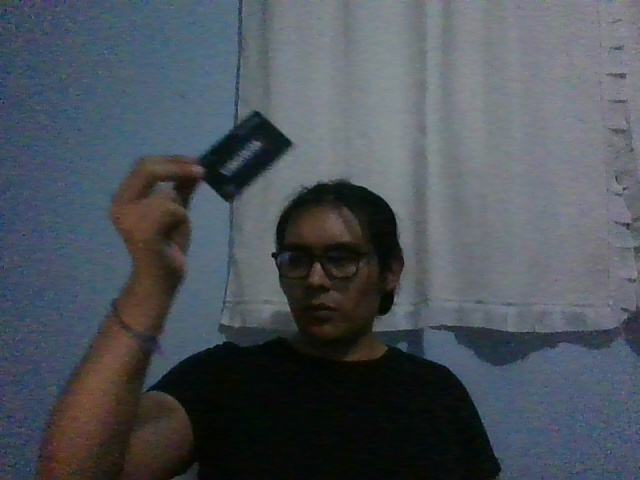tarjeta: (197, 110, 293, 204)
